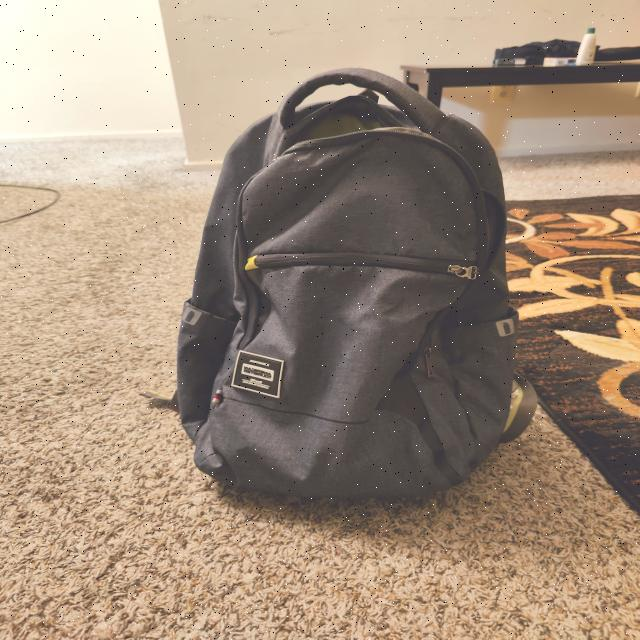bag: (179, 70, 521, 504)
